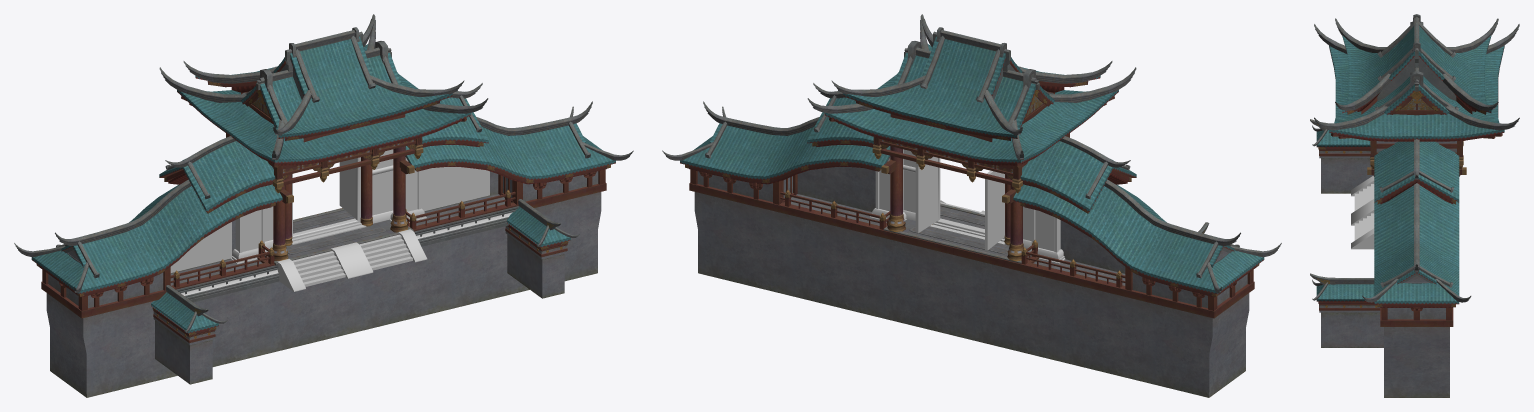
Rendered from Demo_door_001.FBX.
The picture shows the model from 3 angles, left to right: view 1: azimuth 30°, elevation 25°; view 2: azimuth 150°, elevation 25°; view 3: azimuth 270°, elevation 25°; orthographic projection. The views are drawn at different scales.
Parts seen in each view (by area): view 1: Demo_door_001; view 2: Demo_door_001; view 3: Demo_door_001.
Part boxes in pixels (x1,y1,x2,y2): Demo_door_001: (14,14,633,397); Demo_door_001: (662,14,1281,397); Demo_door_001: (1310,14,1519,397).
Bounding box in the file's own units: 5410 × 2648 × 1955.
